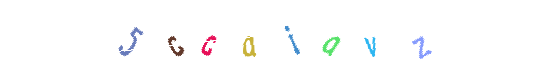5: (135, 0, 215, 80)
A: (202, 0, 282, 80), (240, 0, 320, 80)
C: (168, 0, 248, 80), (198, 0, 278, 80)
I: (235, 0, 315, 80)
V: (291, 0, 371, 80)
Z: (307, 0, 387, 80)
